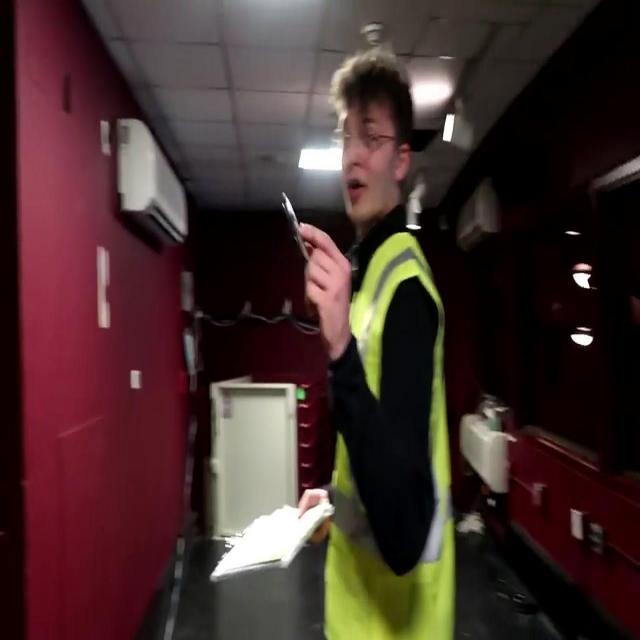Reflective-Jacket: (309, 222, 469, 638)
